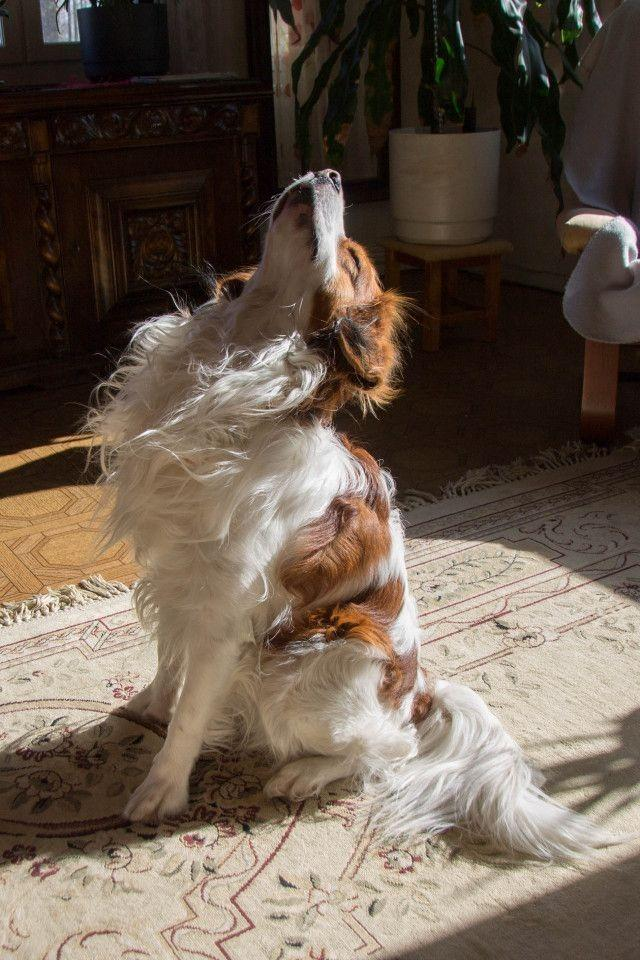adult_dog: (65, 165, 640, 869)
